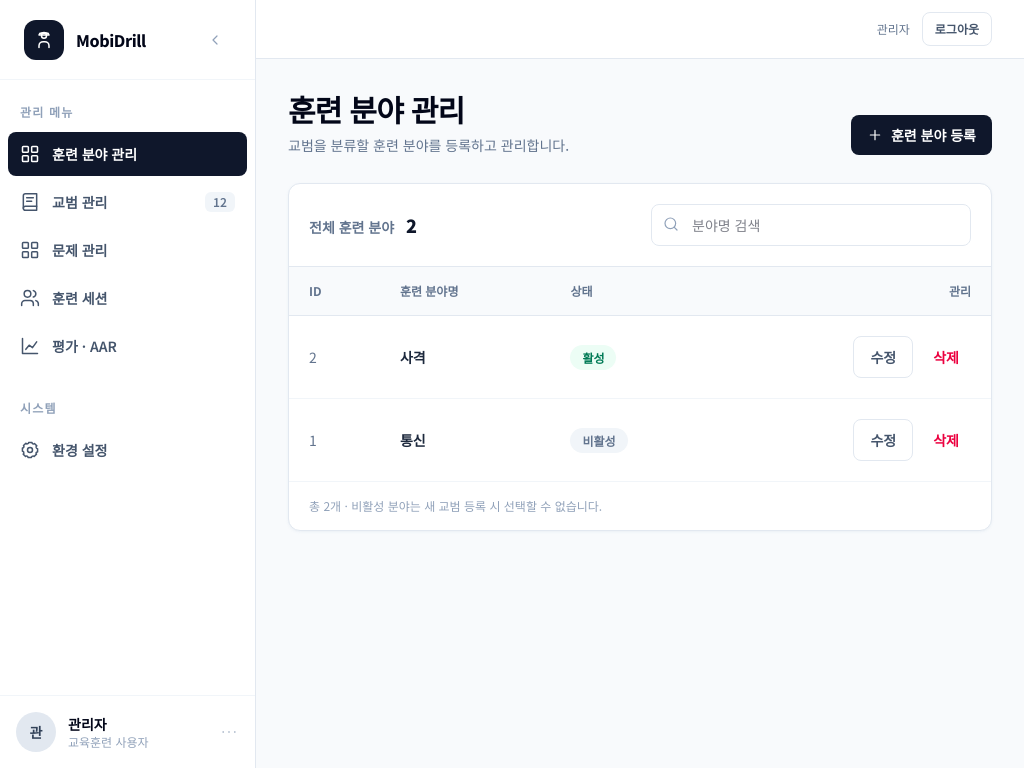
Test: DELETE 실패 시 기존 목록과 대화상자를 유지한다
The width and height of the screenshot is (1024, 768).
Click the button with aria-label "사격 삭제".
click(946, 357)  # box [921,336,971,378]
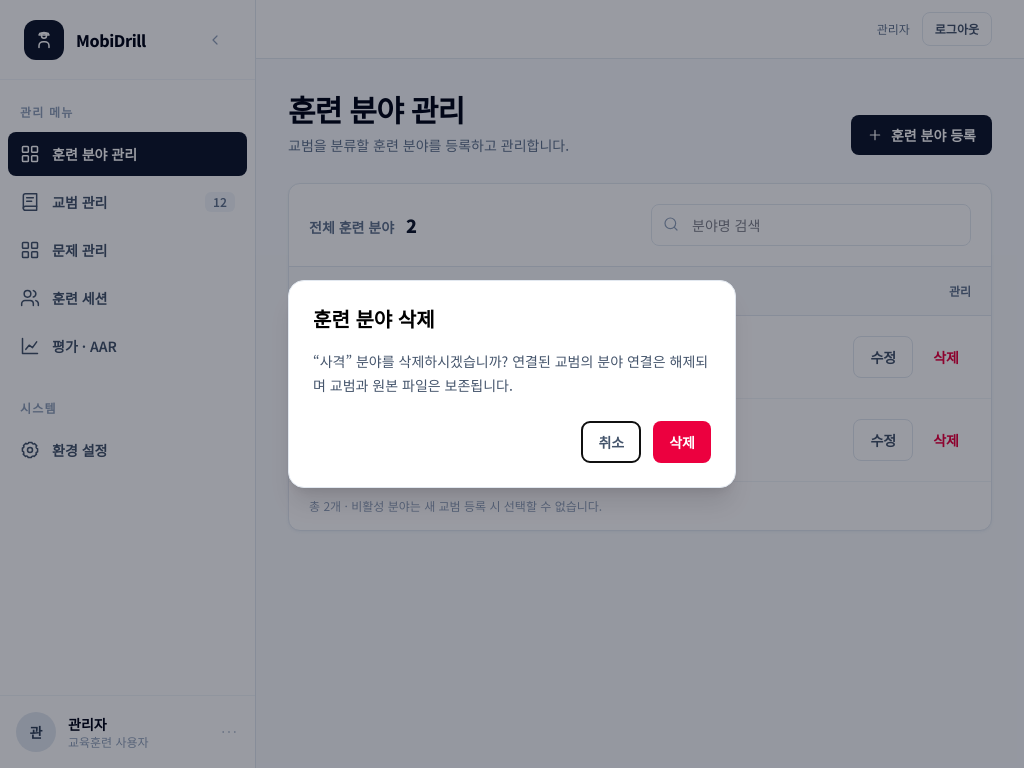
Click the button "삭제".
click(682, 442)  # box [653,421,711,463]
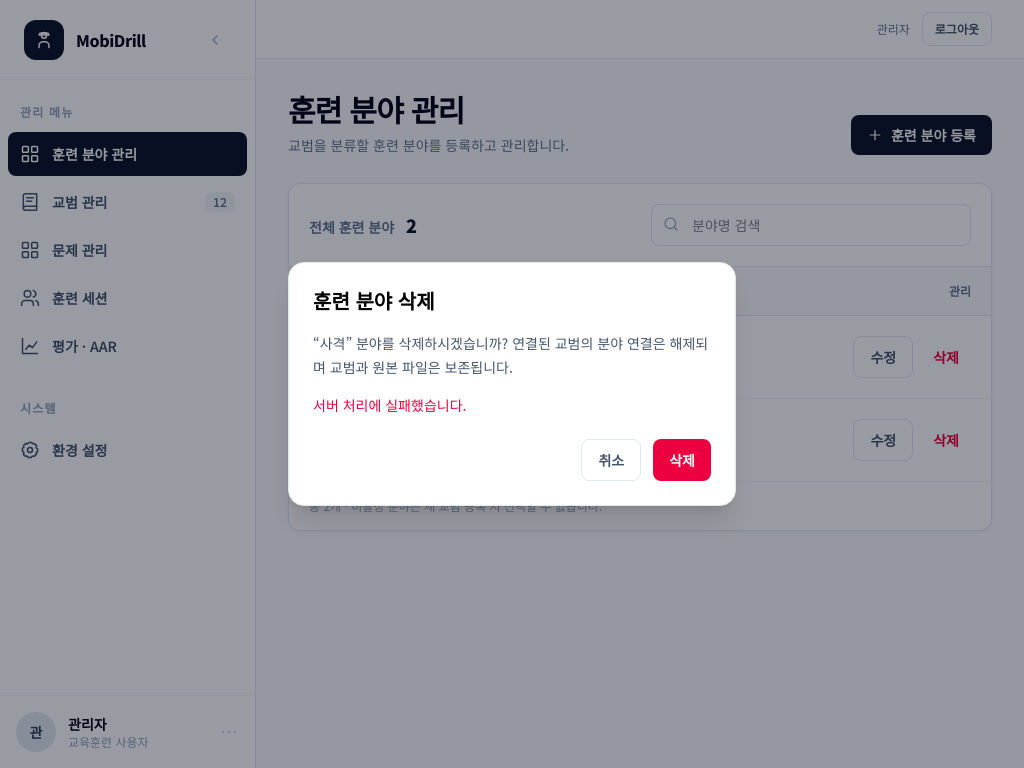
Expected: the column heading "사격" is shown, [380,316,550,398]
Expected: the dialog is shown, [288,262,736,506]
Expected: the message shows "서버 처리", [313,395,466,415]
